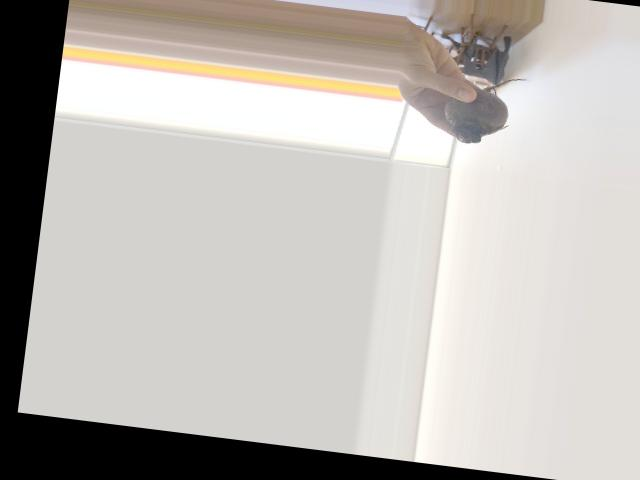beet: (441, 69, 530, 150)
